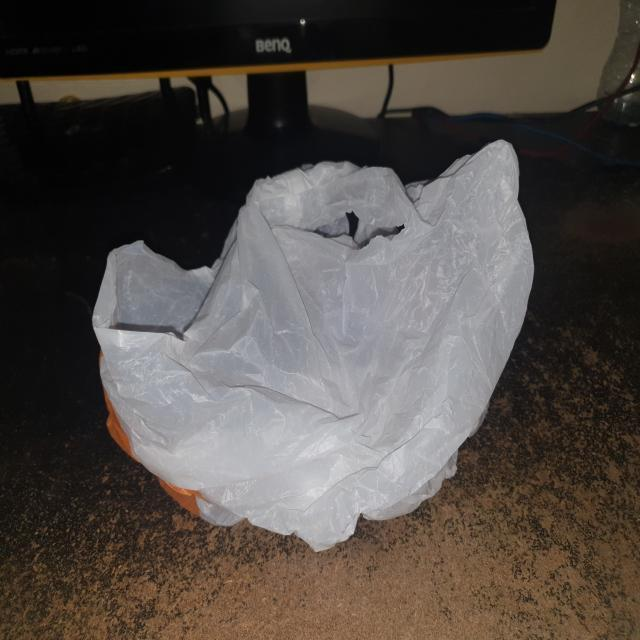Plastic_Bag: (86, 133, 544, 562)
